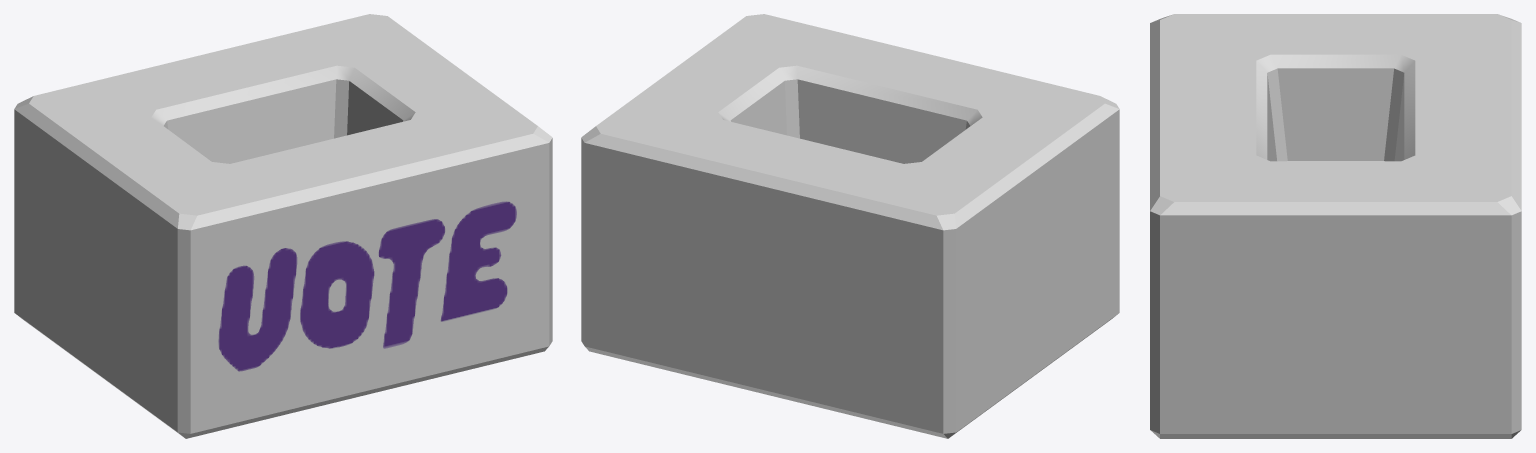
The model's file is VotingBox.fbx.
3 renders of one model, left to right at view 1: azimuth 30°, elevation 25°; view 2: azimuth 150°, elevation 25°; view 3: azimuth 270°, elevation 25°, orthographic. The views are drawn at different scales.
Parts seen in each view (by area): view 1: VotingBox, VotingText; view 2: VotingBox; view 3: VotingBox.
Boxes of the visible parts, x1,y1,x2,y2 form: VotingBox: (14, 14, 552, 438); VotingText: (218, 201, 516, 371); VotingBox: (581, 14, 1119, 438); VotingBox: (1150, 14, 1521, 438).
Size of the model in its own units: 1.05 by 0.5921 by 0.8457.
